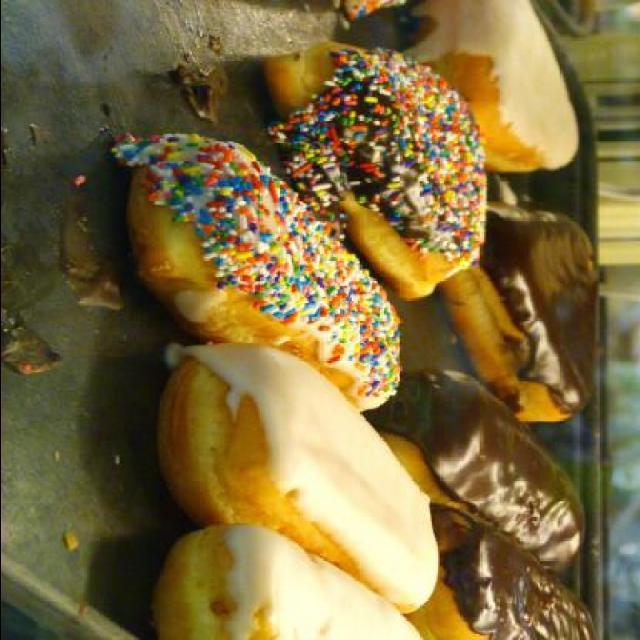Candy: (107, 132, 405, 396), (280, 45, 491, 293)
